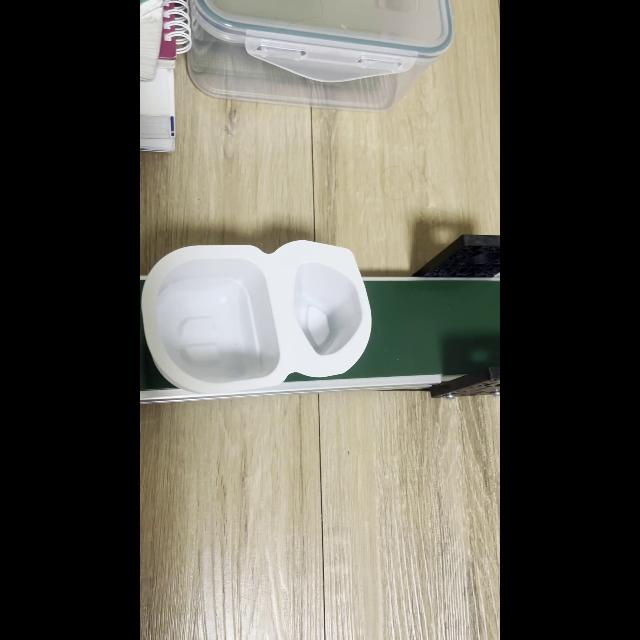clean: (155, 262, 361, 372)
